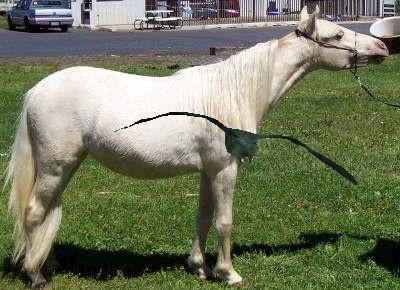tampered: (115, 113, 357, 185)
